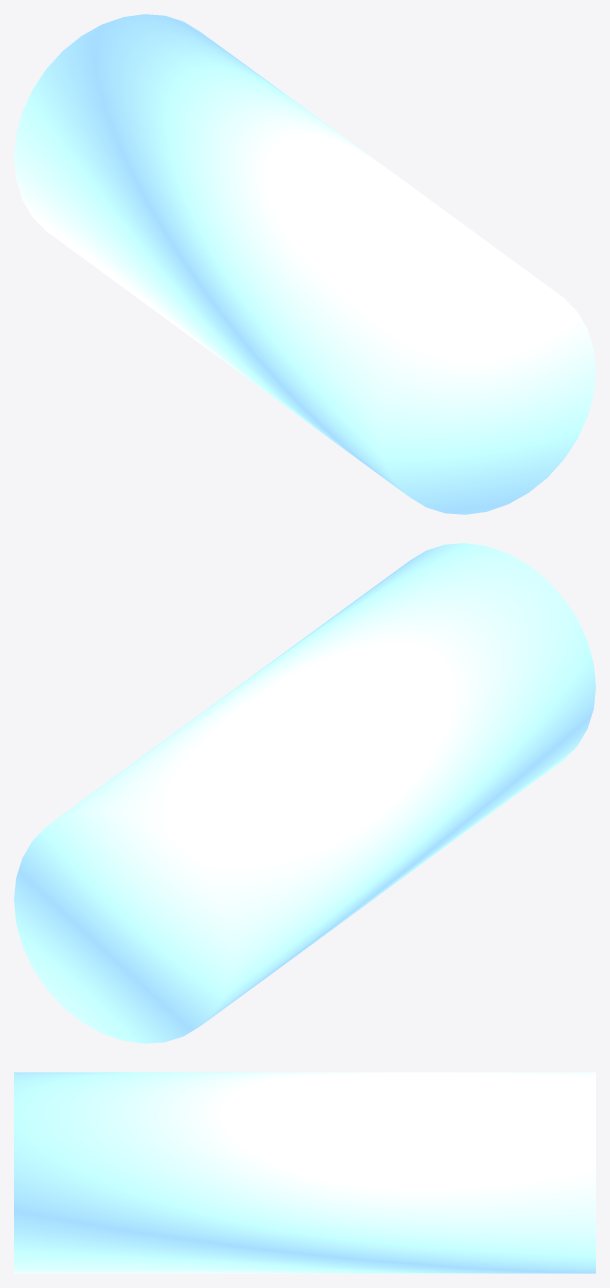
File: GT3_Titanium_Exhaust_L.glb
The picture shows the model from 3 angles, top to bottom: view 1: azimuth 30°, elevation 25°; view 2: azimuth 150°, elevation 25°; view 3: azimuth 270°, elevation 25°; orthographic projection. The views are drawn at different scales.
Parts seen in each view (by area): view 1: GT3_Titanium_Exhaust_L; view 2: GT3_Titanium_Exhaust_L; view 3: GT3_Titanium_Exhaust_L.
Part boxes in pixels (left/top/right/bottom): GT3_Titanium_Exhaust_L: left=14, top=14, right=595, bottom=514; GT3_Titanium_Exhaust_L: left=14, top=543, right=595, bottom=1043; GT3_Titanium_Exhaust_L: left=14, top=1072, right=595, bottom=1273.
Bounding box in the file's own units: 0.104 × 0.104 × 0.3.
